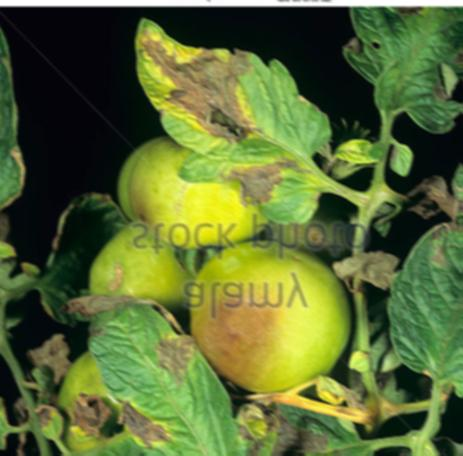Tomato leaf late blight: (132, 16, 347, 218), (87, 295, 270, 456), (383, 149, 463, 417)
